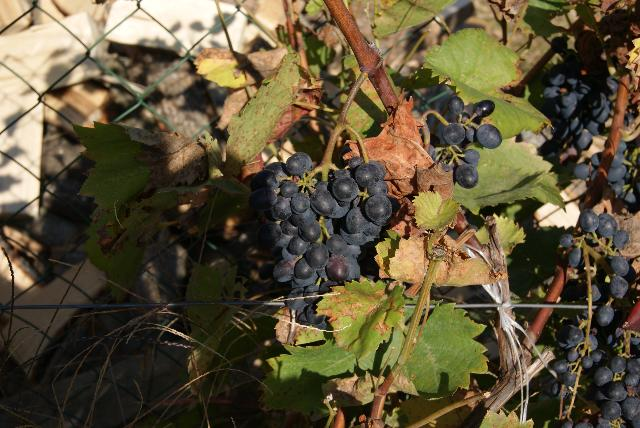grapes: (249, 152, 400, 292), (554, 209, 640, 428), (540, 56, 618, 154), (429, 96, 502, 189)
